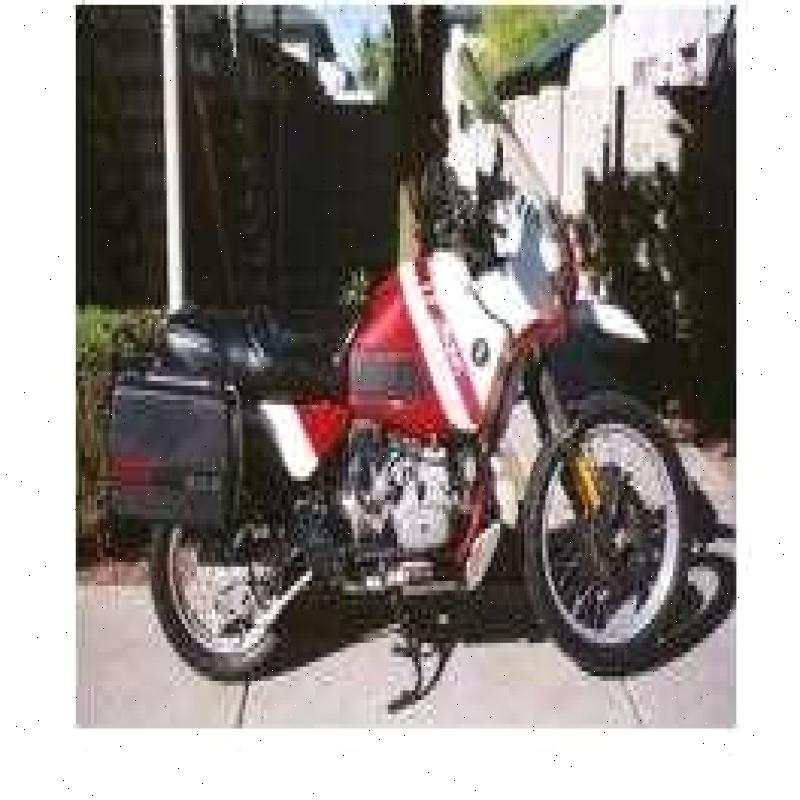bike: (104, 78, 706, 676)
